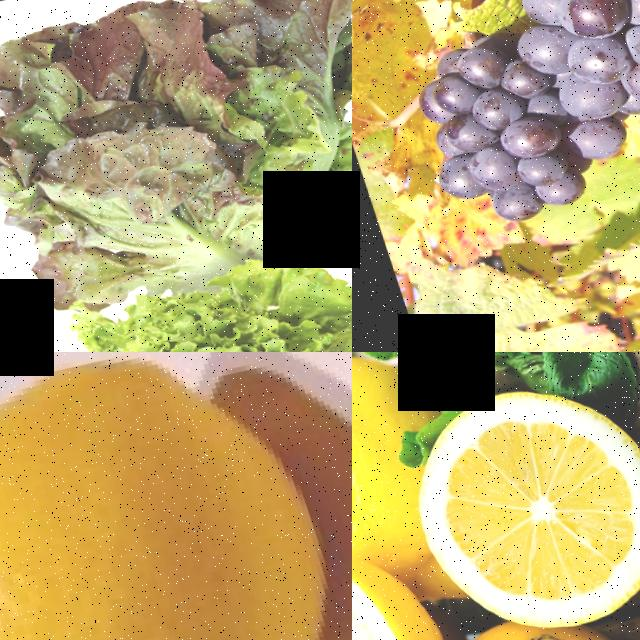grapes: (360, 0, 640, 229)
lemon: (0, 352, 352, 640), (392, 387, 640, 640), (352, 352, 425, 566)
lettuce: (0, 251, 352, 352)
